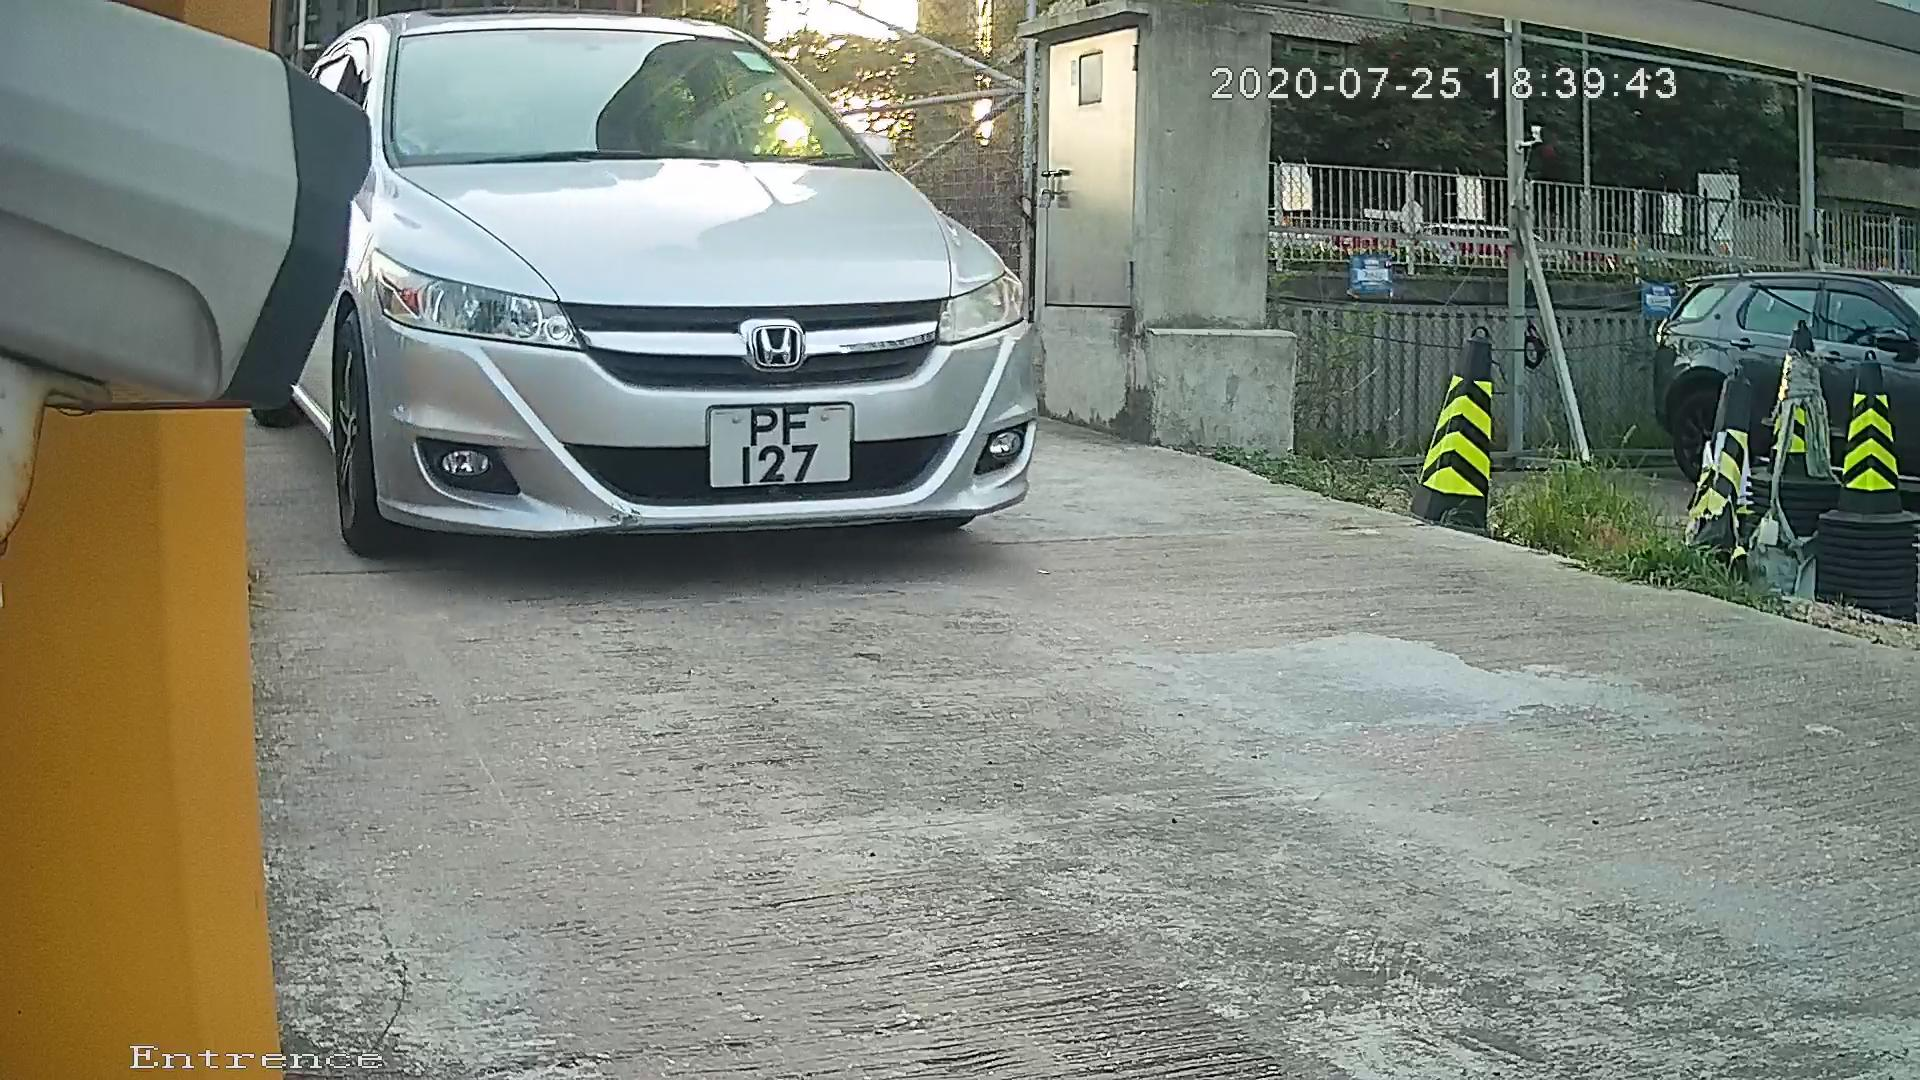License Plate: (678, 391, 858, 492)
